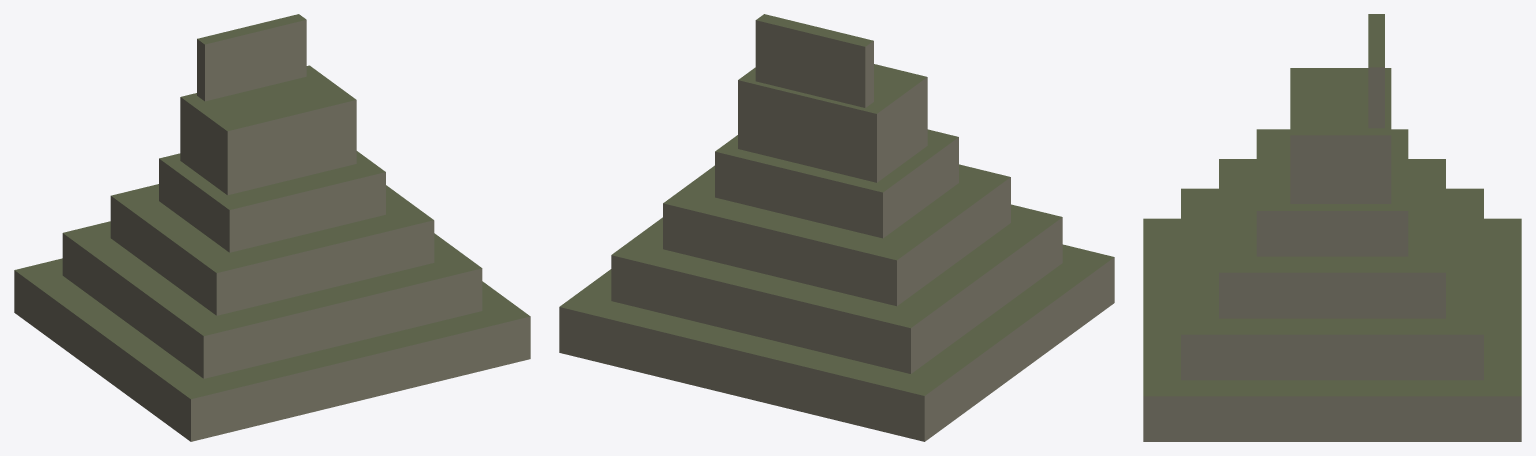
The model's file is ruin-temple-a.far-facades-v1.lod2.glb.
3 views of the same model, side by side, from view 1: azimuth 30°, elevation 25°; view 2: azimuth 150°, elevation 25°; view 3: azimuth 270°, elevation 25° (orthographic). The views are drawn at different scales.
Visible parts, largest first — view 1: ruin-temple-a; view 2: ruin-temple-a; view 3: ruin-temple-a.
Boxes of the visible parts, x1,y1,x2,y2 form: ruin-temple-a: (14, 14, 530, 441); ruin-temple-a: (559, 14, 1114, 441); ruin-temple-a: (1143, 14, 1521, 441).
Size of the model in its own units: 20 by 16.4 by 18.
